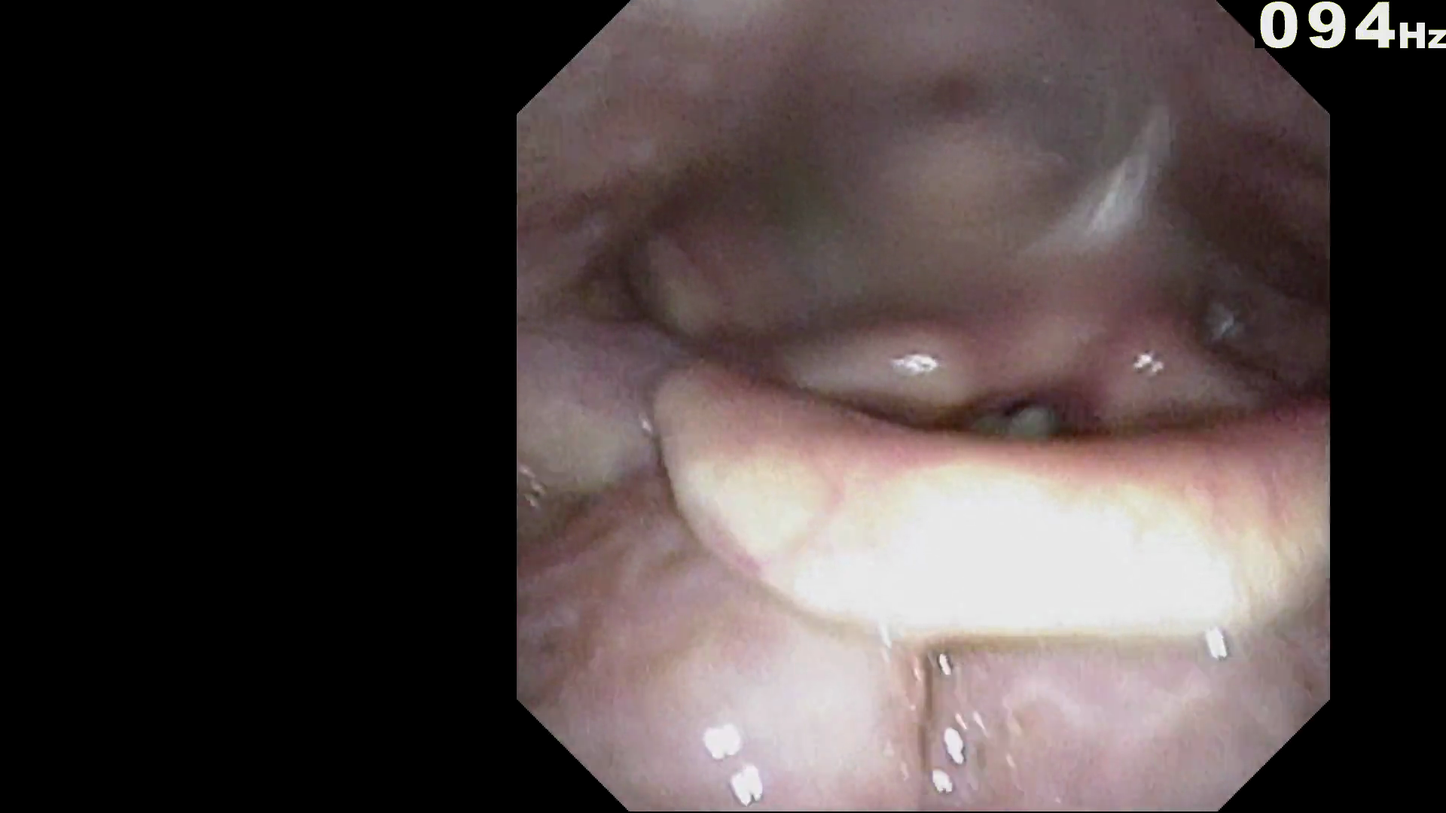epiglottis: (700, 446, 1309, 670)
